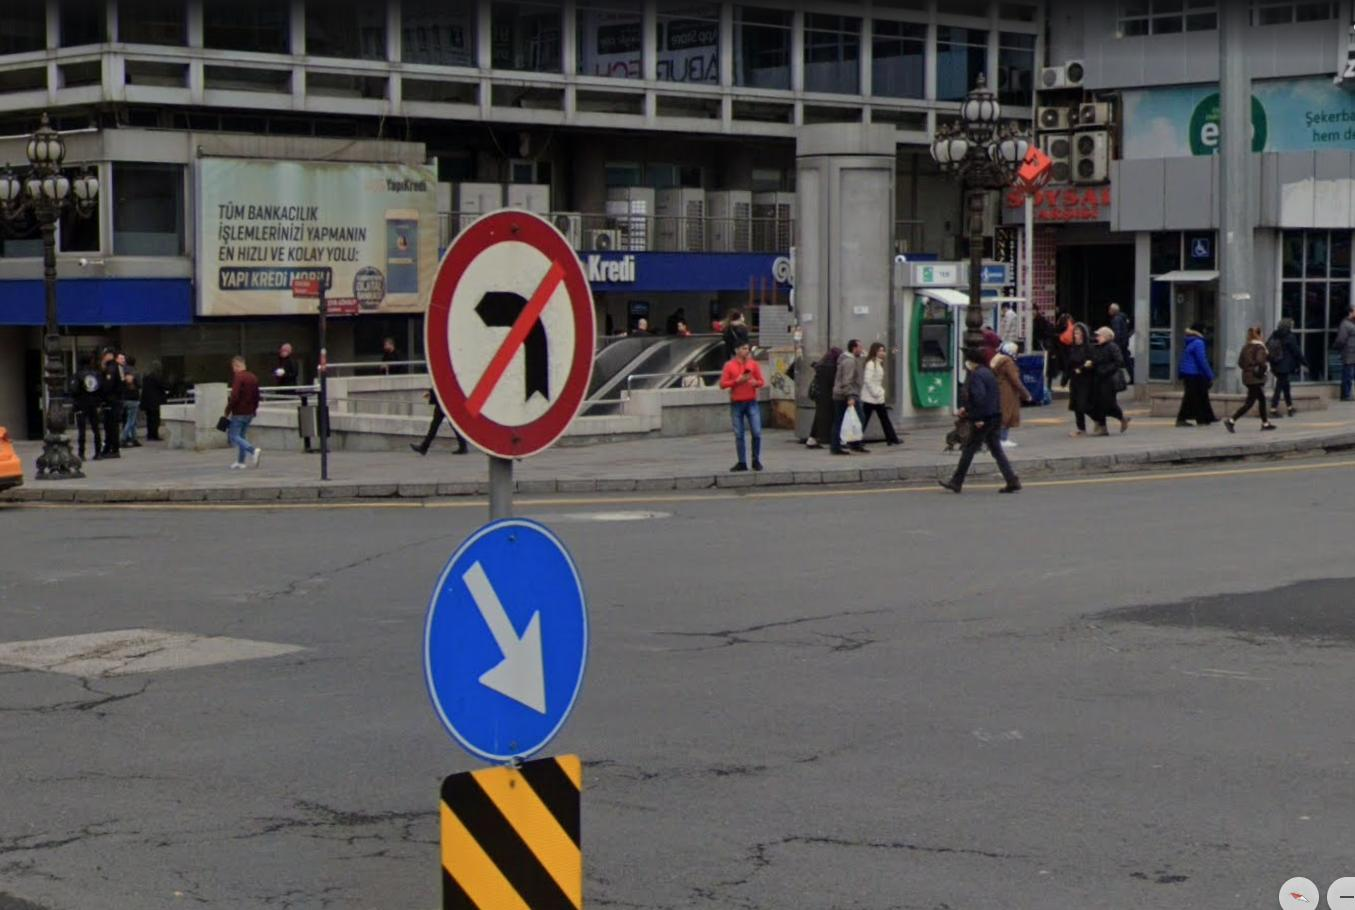leftturnsareforbidden: (439, 212, 586, 453)
